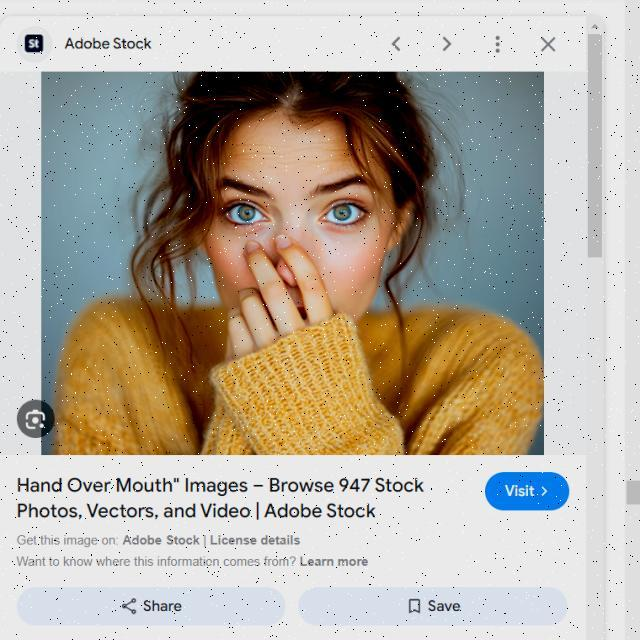face_with_hand: (193, 111, 410, 349)
